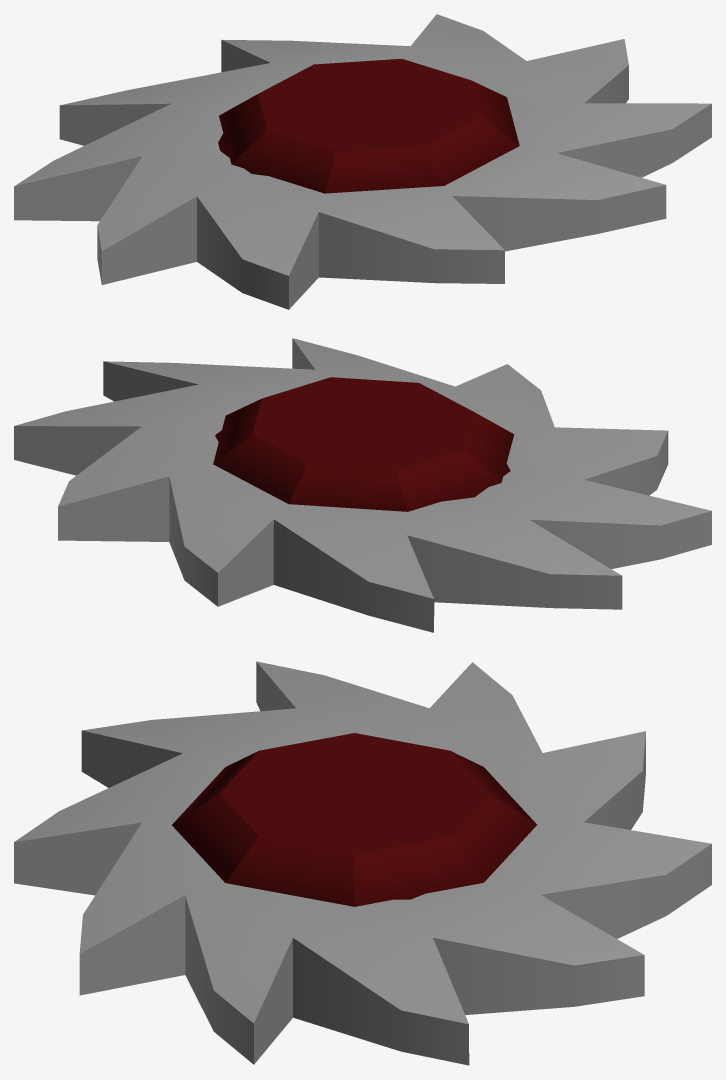
The model's file is CannonBoss_Projectile_Only.FBX.
The picture shows the model from 3 angles, top to bottom: view 1: azimuth 30°, elevation 25°; view 2: azimuth 150°, elevation 25°; view 3: azimuth 270°, elevation 25°; orthographic projection. The views are drawn at different scales.
Parts seen in each view (by area): view 1: Boss2_Projectile; view 2: Boss2_Projectile; view 3: Boss2_Projectile.
Part boxes in pixels (x1,y1,x2,y2): Boss2_Projectile: (14,14,711,309); Boss2_Projectile: (14,338,711,632); Boss2_Projectile: (14,661,711,1065).
Bounding box in the file's own units: 84.23 × 12.09 × 68.49.
